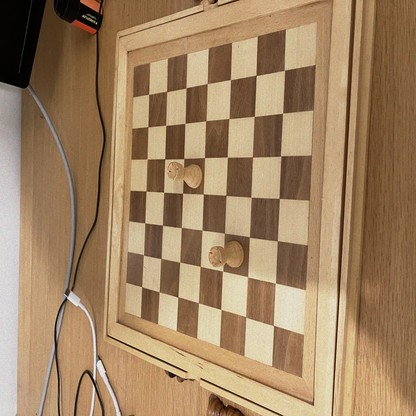rock_white: (168, 162, 201, 189), (209, 242, 244, 267)
